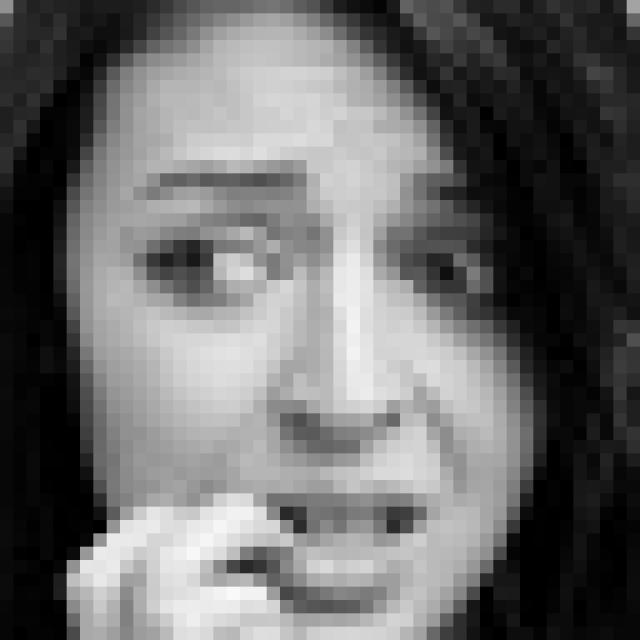fear: (121, 160, 514, 627)
